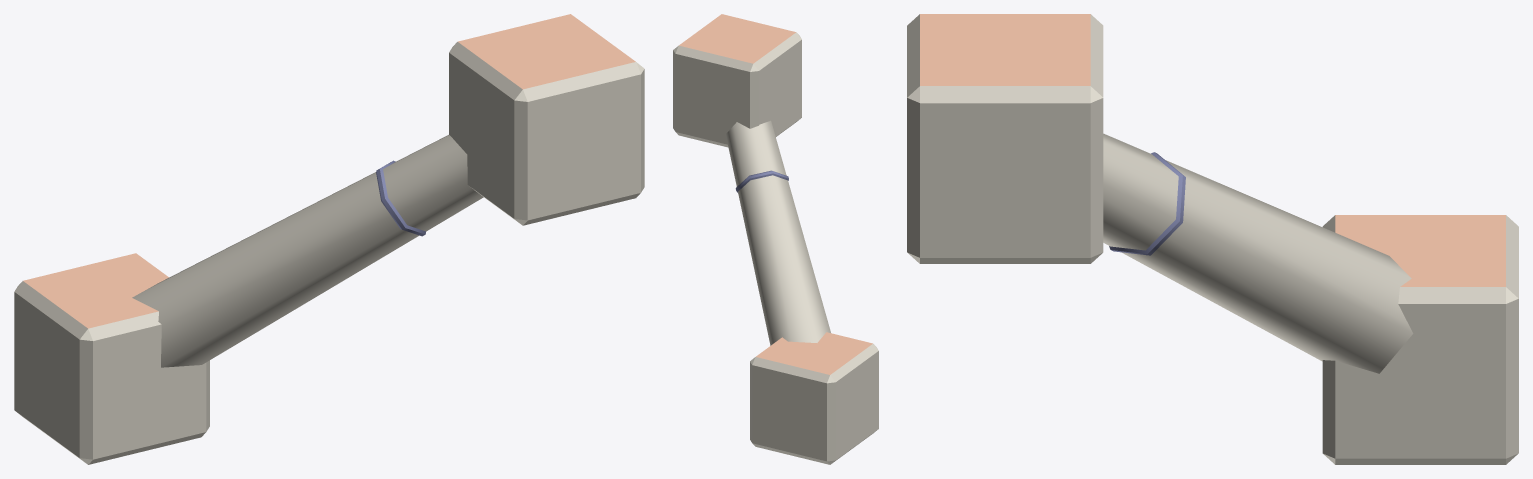
Rendered from R4C_STRUT_DIAG_3D_LOD1.fbx.
The picture shows the model from 3 angles, left to right: view 1: azimuth 30°, elevation 25°; view 2: azimuth 150°, elevation 25°; view 3: azimuth 270°, elevation 25°; orthographic projection. The views are drawn at different scales.
Visible parts, largest first — view 1: R4C_STRUT_DIAG_3D_LOD1; view 2: R4C_STRUT_DIAG_3D_LOD1; view 3: R4C_STRUT_DIAG_3D_LOD1.
Boxes of the visible parts, x1,y1,x2,y2 form: R4C_STRUT_DIAG_3D_LOD1: (14,14,644,464); R4C_STRUT_DIAG_3D_LOD1: (673,14,878,464); R4C_STRUT_DIAG_3D_LOD1: (907,14,1518,464).
Bounding box in the file's own units: 1.62 × 1.62 × 1.62.
